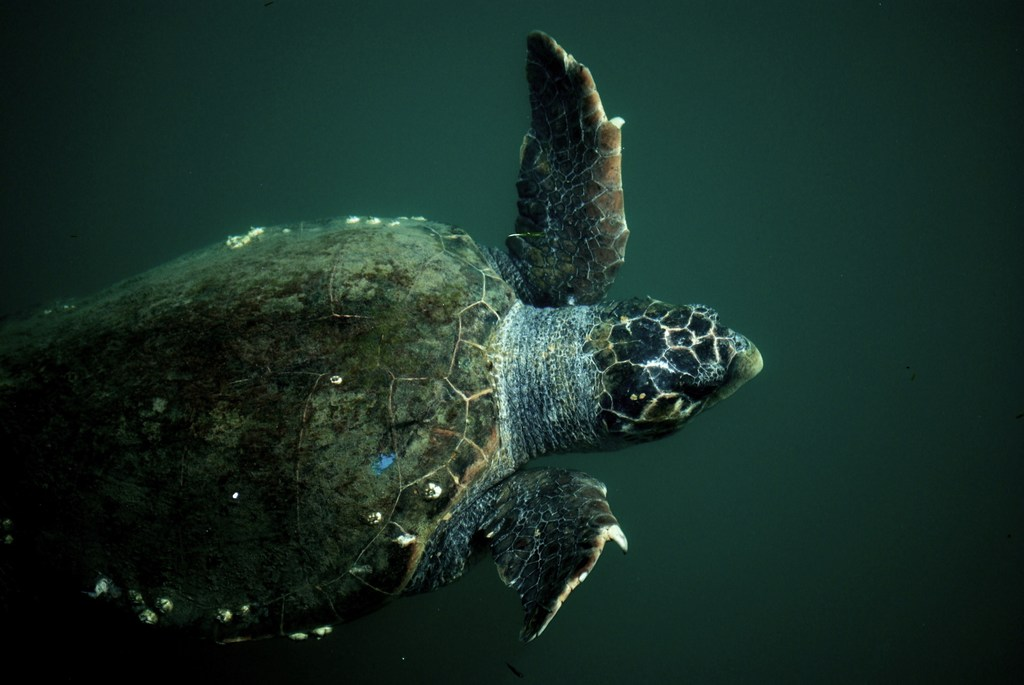Sea turtles: (0, 26, 764, 658)
